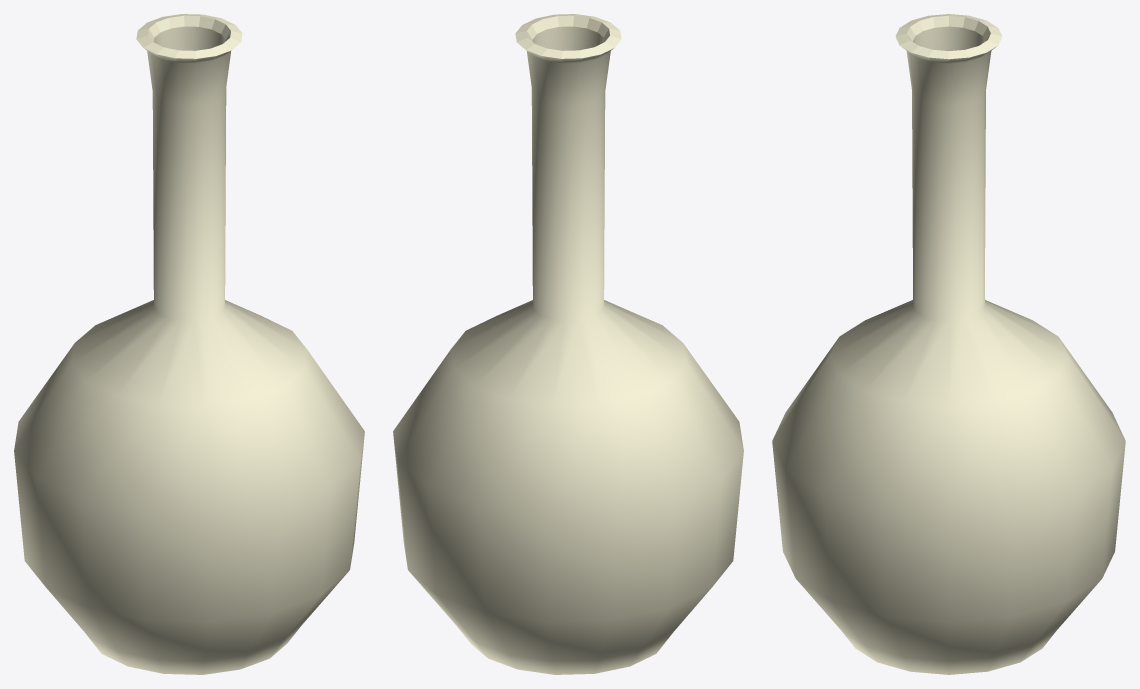
File: Bottle.fbx
The picture shows the model from 3 angles, left to right: view 1: azimuth 30°, elevation 25°; view 2: azimuth 150°, elevation 25°; view 3: azimuth 270°, elevation 25°; orthographic projection.
Parts seen in each view (by area): view 1: Bottle1; view 2: Bottle1; view 3: Bottle1.
Part boxes in pixels (x1,y1,x2,y2): Bottle1: (14, 14, 364, 674); Bottle1: (393, 14, 743, 674); Bottle1: (772, 14, 1125, 674).
Size of the model in its own units: 1.7 by 3.17 by 1.7.
Materials: 1 (1 with a texture image).
